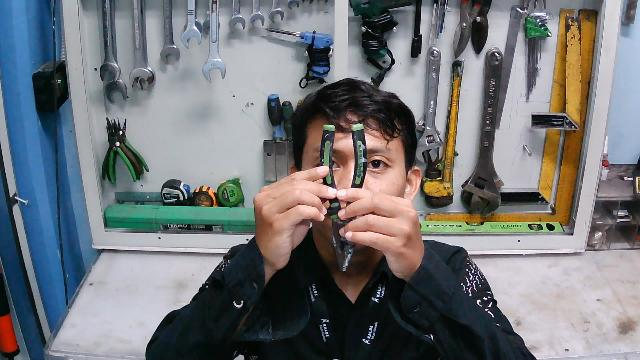tang_kombinasi: (315, 125, 369, 270)
